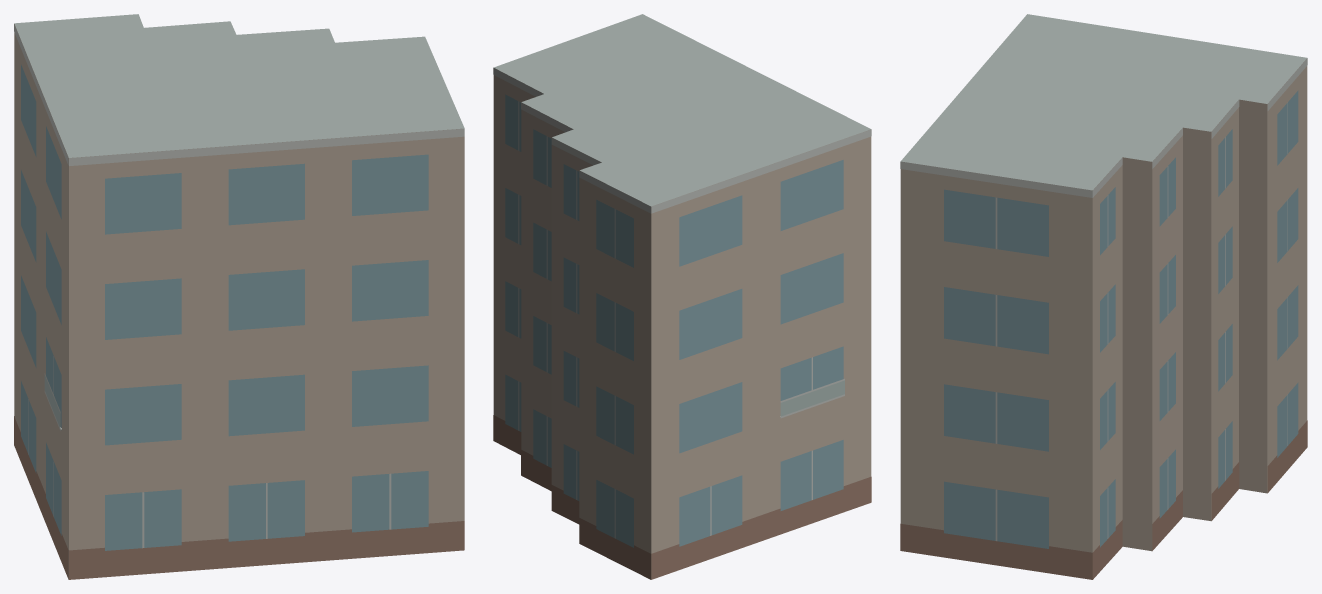
The model's file is survey-upis-32869521.glb.
3 renders of one model, left to right at view 1: azimuth 30°, elevation 25°; view 2: azimuth 150°, elevation 25°; view 3: azimuth 270°, elevation 25°, orthographic. The views are drawn at different scales.
Parts seen in each view (by area): view 1: survey-upis-32869521.tmp; view 2: survey-upis-32869521.tmp; view 3: survey-upis-32869521.tmp.
Boxes of the visible parts, x1,y1,x2,y2 form: survey-upis-32869521.tmp: (14,14,464,579); survey-upis-32869521.tmp: (493,14,871,579); survey-upis-32869521.tmp: (900,14,1307,579).
Bounding box in the file's own units: 12.25 × 12.6 × 11.95.
